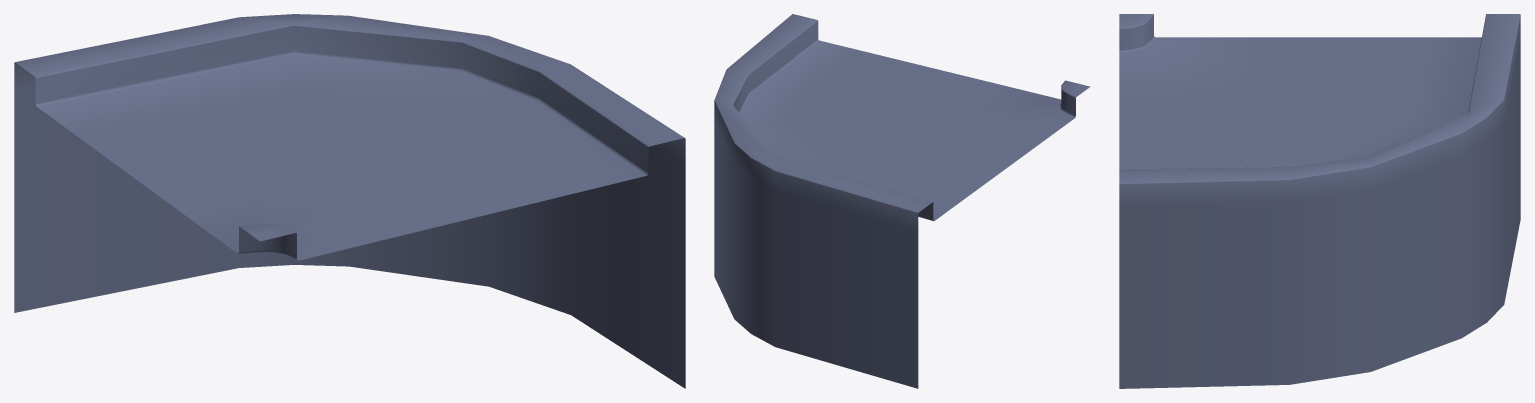
Rendered from conveyor_corner (1).fbx.
3 views of the same model, side by side, from view 1: azimuth 30°, elevation 25°; view 2: azimuth 150°, elevation 25°; view 3: azimuth 270°, elevation 25° (orthographic). The views are drawn at different scales.
Visible parts, largest first — view 1: CORNER; view 2: CORNER; view 3: CORNER.
Part boxes in pixels (<box>): CORNER: <box>14,14,685,388</box>; CORNER: <box>714,14,1090,388</box>; CORNER: <box>1119,14,1520,388</box>.
Bounding box in the file's own units: 100 × 56.43 × 100.
